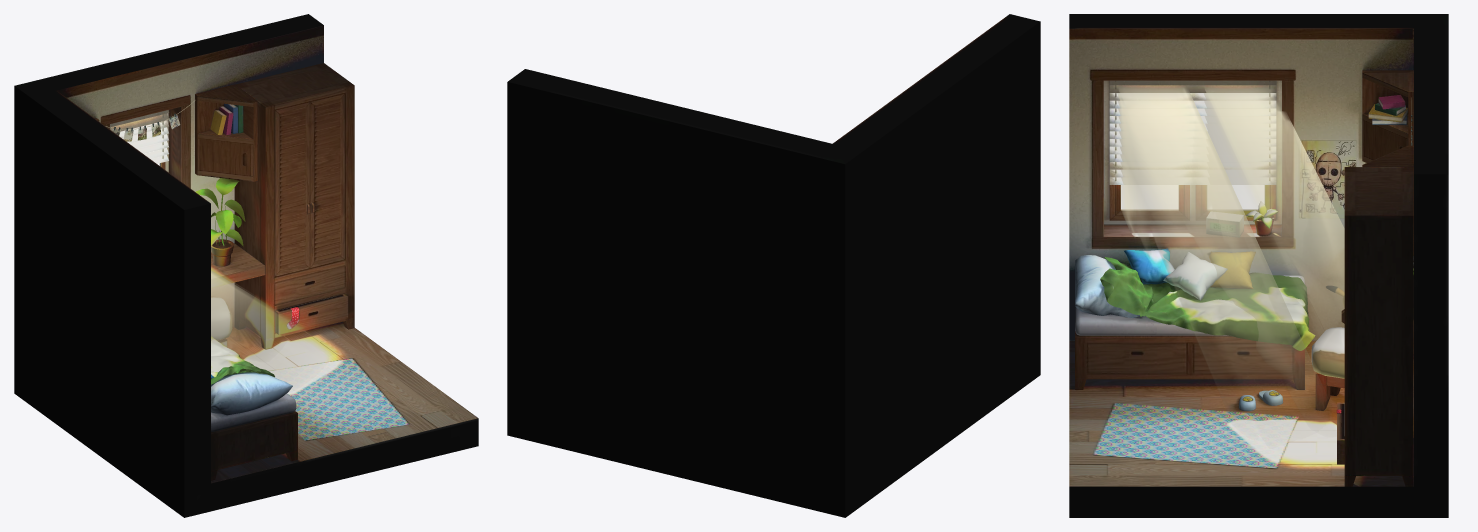
The model's file is room.glb.
3 renders of one model, left to right at view 1: azimuth 30°, elevation 25°; view 2: azimuth 150°, elevation 25°; view 3: azimuth 270°, elevation 25°, orthographic. The views are drawn at different scales.
Visible parts, largest first — view 1: room, equipment, ray; view 2: room; view 3: room, equipment, ray.
Boxes of the visible parts, bbox=[...] form: room: bbox=[14, 14, 478, 517]; equipment: bbox=[95, 63, 354, 480]; ray: bbox=[211, 266, 315, 376]; room: bbox=[507, 14, 1040, 517]; room: bbox=[1069, 14, 1448, 517]; equipment: bbox=[1075, 70, 1413, 486]; ray: bbox=[1118, 86, 1344, 418].
Size of the model in its own units: 5.77 by 5.77 by 6.
Materials: 3 (3 with a texture image).
